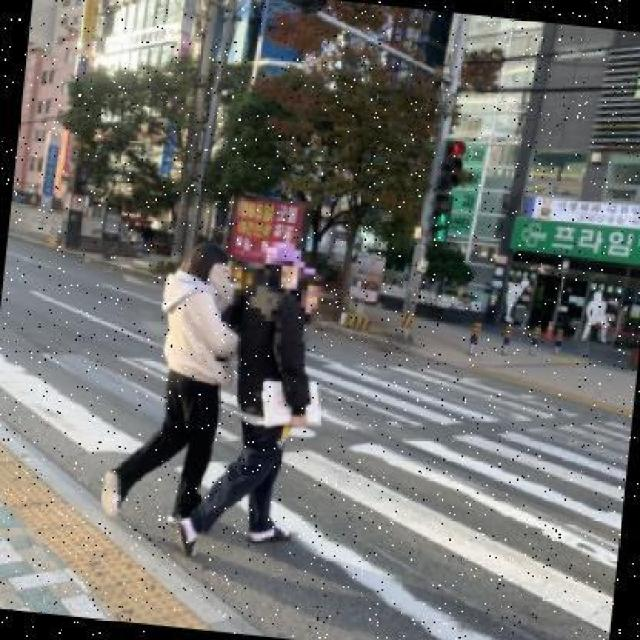Person: (177, 237, 325, 561), (102, 233, 244, 525)
